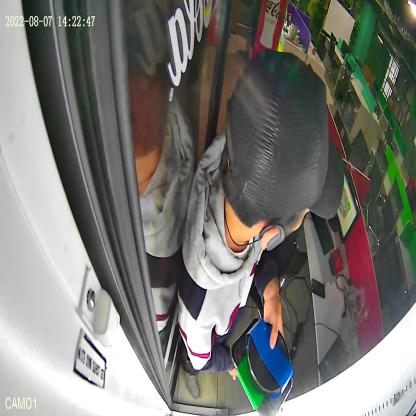blue: (246, 318, 294, 404)
green: (230, 316, 294, 416)
